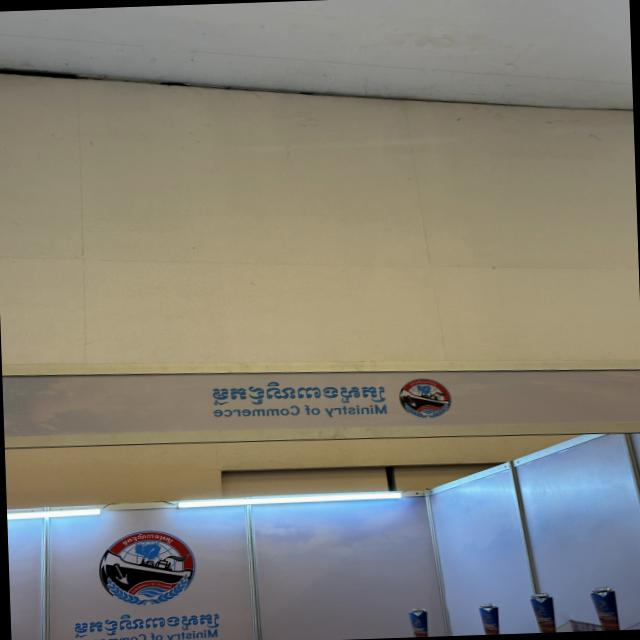Yolov11kh: (70, 606, 222, 639), (209, 380, 391, 406)
